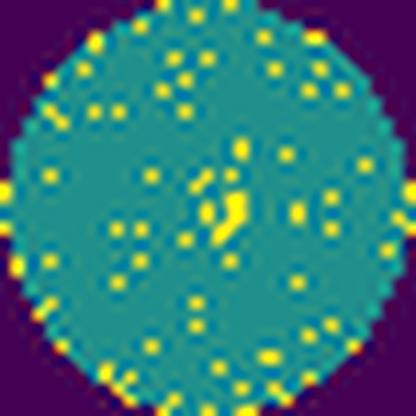Center: (197, 187, 252, 247)
